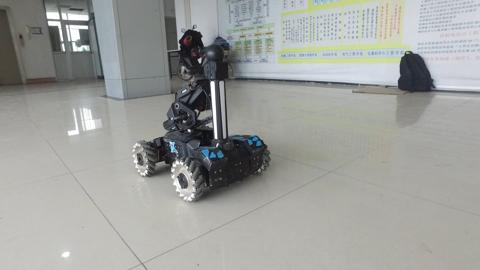bag: (391, 50, 443, 97)
chariot: (127, 42, 276, 204)
